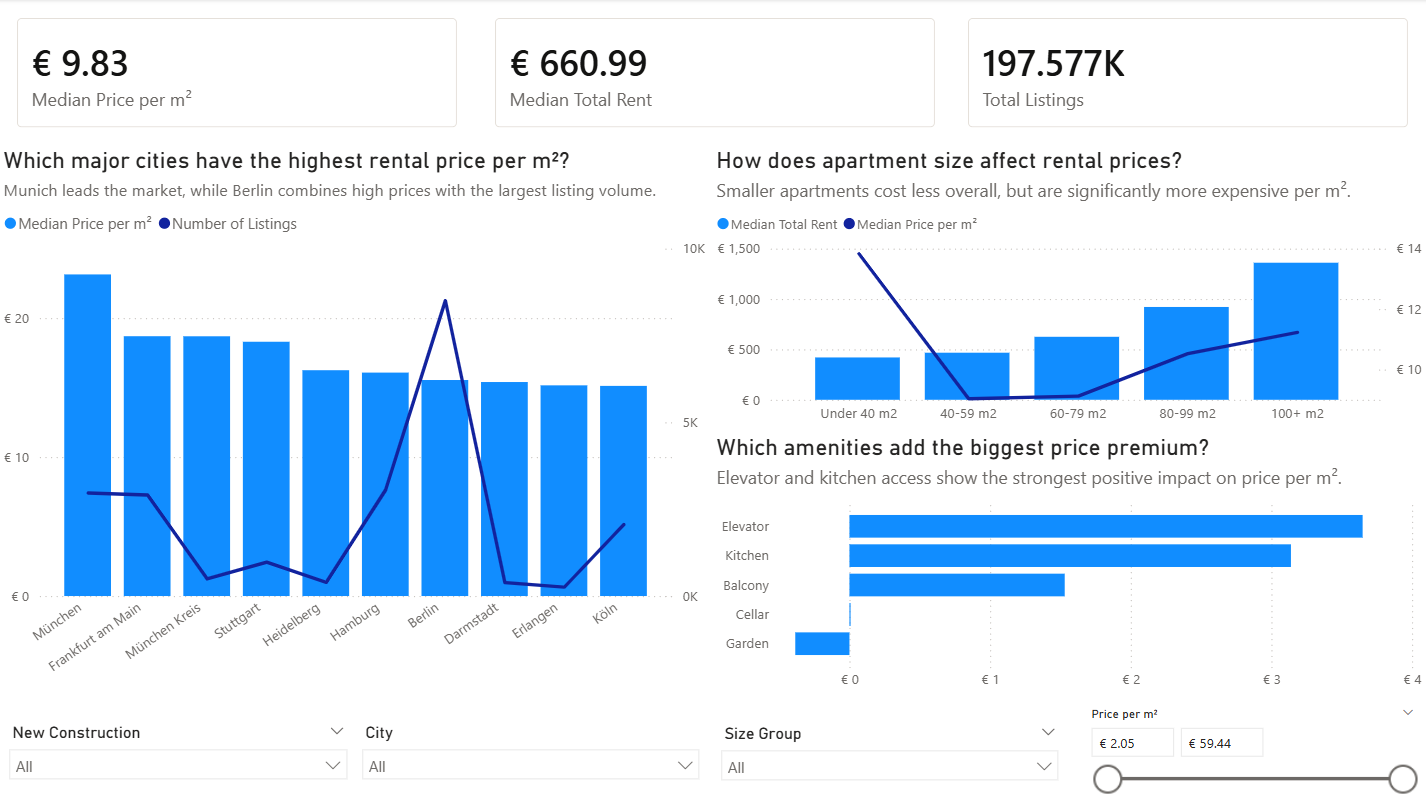

The dashboard page shown, as its layout file describes it:
{"tool":"powerbi","page":{"name":"Market Overview","canvas":[1280,720],"ordinal":0},"visuals":[{"type":"cardVisual","fields":{"Data":["Median(public vw_rentals_enriched.price_per_m2)"]},"box":[0,0,428.2,132.7],"z":0},{"type":"cardVisual","fields":{"Data":["Median(public vw_rentals_enriched.total_rent)"]},"box":[428.2,0,428.2,132.7],"z":1000},{"type":"cardVisual","fields":{"Data":["CountNonNull(public vw_rentals_enriched.city)"]},"box":[851.8,0,428.2,132.7],"z":2000},{"type":"lineClusteredColumnComboChart","title":"Which major cities have the highest rental price per m²?","fields":{"Y":["rentals_enriched.City_Median_Price"],"Category":["public vw_rentals_enriched.city"],"Y2":["rentals_enriched.City_Listings"]},"box":[0,132.7,638.2,495.5],"z":3000},{"type":"lineStackedColumnComboChart","title":"How does apartment size affect rental prices?","fields":{"Y":["Median(public vw_rentals_enriched.total_rent)"],"Category":["public vw_rentals_enriched.size_group"],"Y2":["Median(public vw_rentals_enriched.price_per_m2)"]},"box":[638.2,132.7,641.8,256.4],"z":4000},{"type":"clusteredBarChart","title":"Which amenities add the biggest price premium?","fields":{"Category":["rentals_amenities.amenity"],"Y":["rentals_amenities.Amenity_Price_Gap"]},"box":[638.2,390,641.8,238.2],"z":5000},{"type":"slicer","fields":{"Values":["public vw_rentals_enriched.price_per_m2"]},"box":[966.1,628.8,313.9,91.7],"z":6000},{"type":"slicer","fields":{"Values":["dim_newly_const.newly_const"]},"box":[0,643.6,322.7,76.4],"z":7000},{"type":"slicer","fields":{"Values":["dim_city.city"]},"box":[315.9,644.1,322,75.4],"z":8000},{"type":"slicer","fields":{"Values":["dim_size_group.size_group"]},"box":[638,645.1,322,75.4],"z":9000}]}

Visuals, with their boxes in screenshot pixels (x1, y1, x2, y2), scaled from the page's 1280x720 canvas onto the 1426x800 screenshot:
cardVisual - Median(public vw_rentals_enriched.price_per_m2): 0 0 477 147
cardVisual - Median(public vw_rentals_enriched.total_rent): 477 0 954 147
cardVisual - CountNonNull(public vw_rentals_enriched.city): 949 0 1425 147
"Which major cities have the highest rental price per m²?" lineClusteredColumnComboChart: 0 147 711 698
"How does apartment size affect rental prices?" lineStackedColumnComboChart: 711 147 1425 432
"Which amenities add the biggest price premium?" clusteredBarChart: 711 433 1425 698
slicer - public vw_rentals_enriched.price_per_m2: 1076 699 1425 799
slicer - dim_newly_const.newly_const: 0 715 360 799
slicer - dim_city.city: 352 716 711 799
slicer - dim_size_group.size_group: 711 717 1070 799
